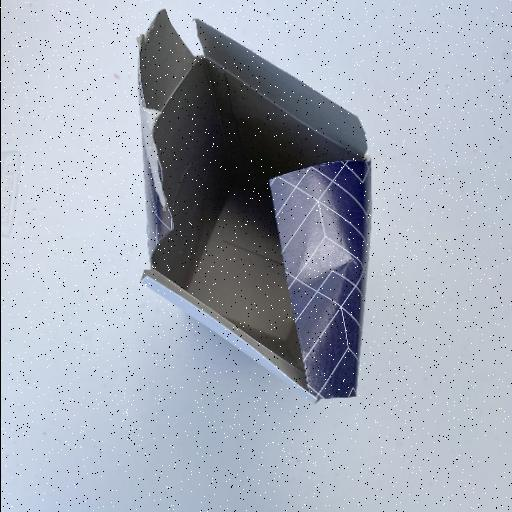Cardboard: (136, 10, 374, 406)
